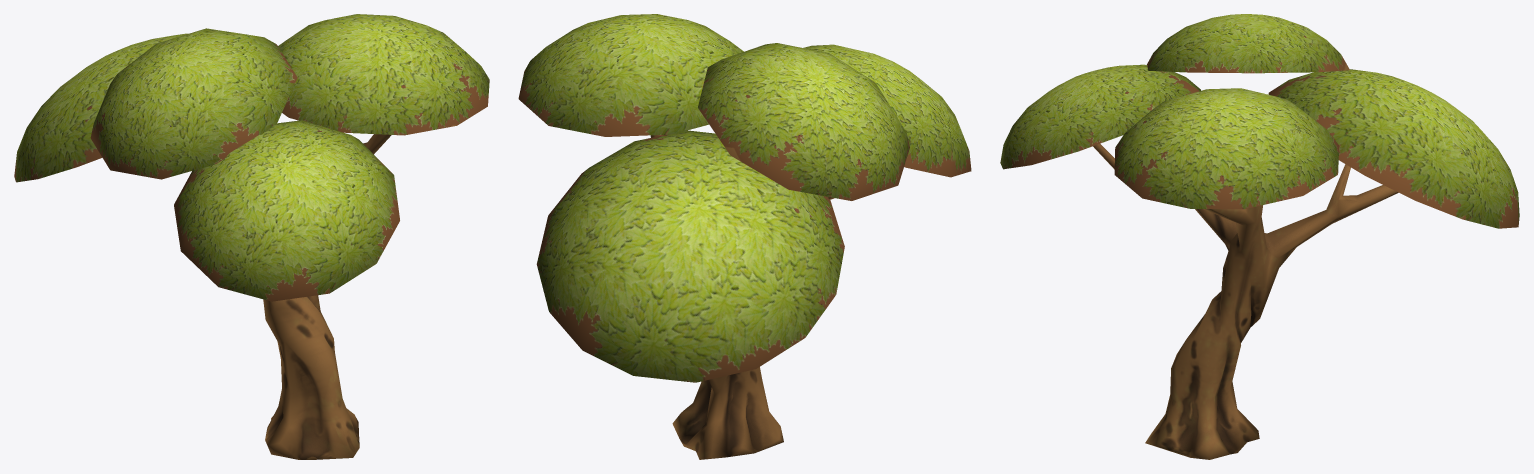
The model's file is pohon besar.fbx.
3 views of the same model, side by side, from view 1: azimuth 30°, elevation 25°; view 2: azimuth 150°, elevation 25°; view 3: azimuth 270°, elevation 25° (orthographic). The views are drawn at different scales.
Parts seen in each view (by area): view 1: Pohon1 Low1.001; view 2: Pohon1 Low1.001; view 3: Pohon1 Low1.001.
Part boxes in pixels (left/top/right/bottom): Pohon1 Low1.001: left=14, top=14, right=489, bottom=459; Pohon1 Low1.001: left=518, top=14, right=971, bottom=459; Pohon1 Low1.001: left=1000, top=14, right=1519, bottom=459.
Size of the model in its own units: 2282 by 2403 by 2939.
Materials: 1 (1 with a texture image).
